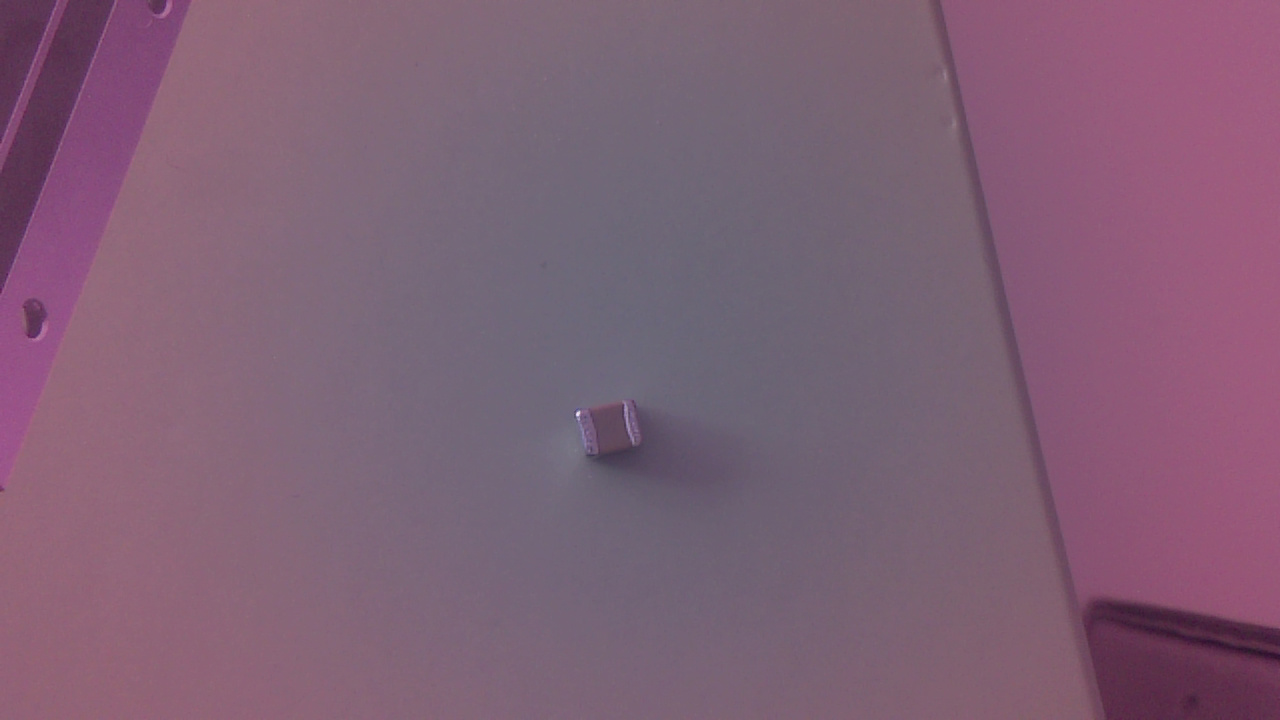Condensator: (576, 402, 658, 471)
